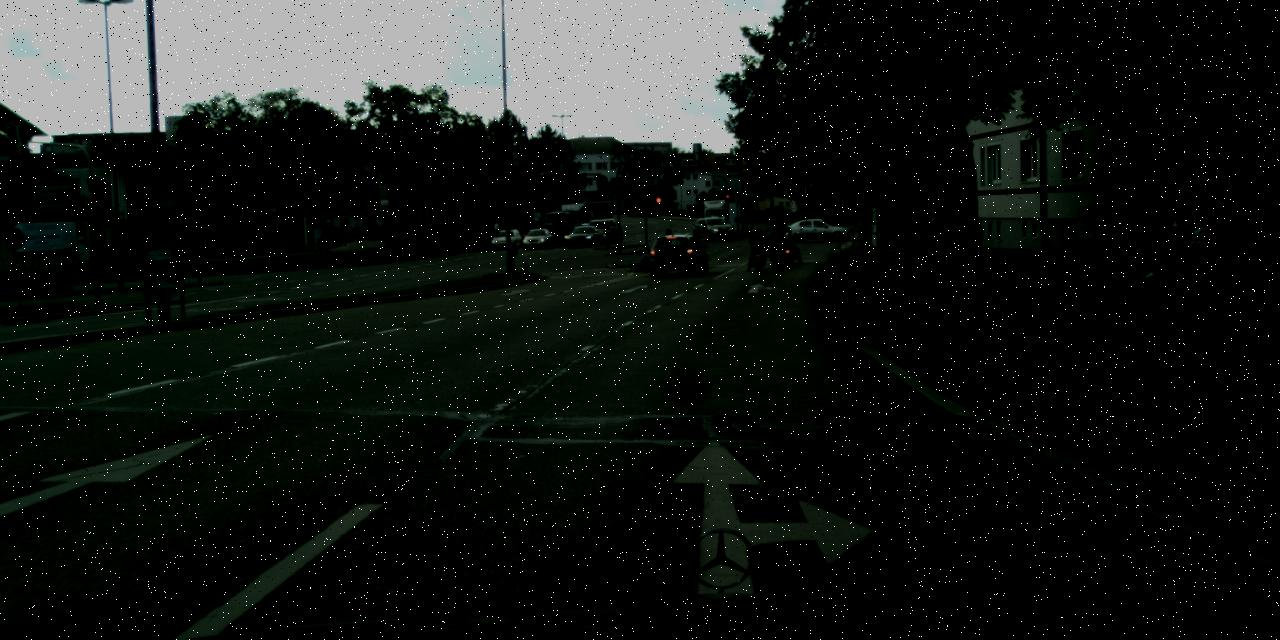ped: (771, 224, 785, 262), (749, 228, 763, 264), (784, 227, 798, 260), (320, 223, 331, 250), (312, 224, 322, 250), (492, 221, 500, 241)
